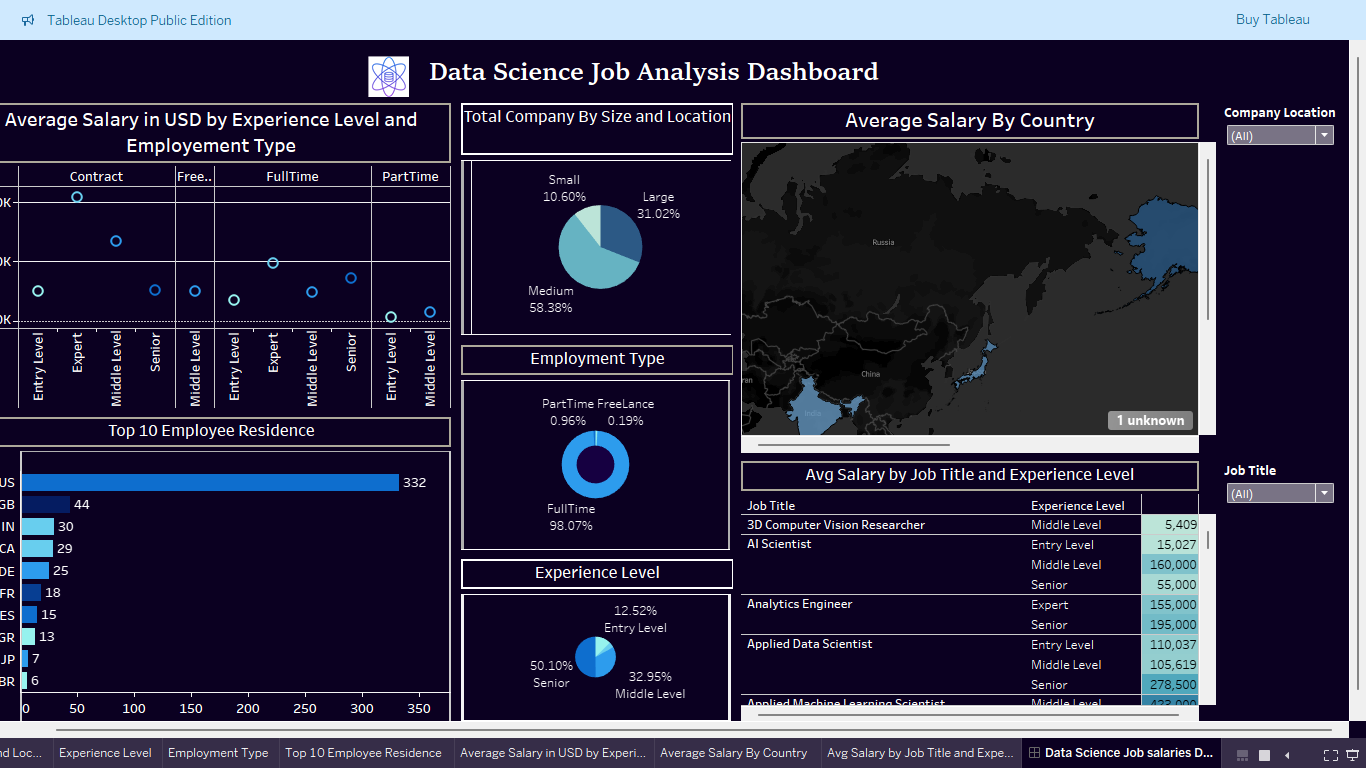

This screenshot's page, from the dashboard's own definition file:
{"tool":"tableau","page":{"name":"Data Science Job salaries Dashboard ","canvas":[1800,695],"ordinal":0},"visuals":[{"type":"text","box":[8,8,1328.2,56]},{"type":"filter","title":"Top 10 Employee Residence","param":"[federated.17arlav1dcehuu1ep6sw40hrnvht].[none:job_title:nk]","box":[1336.2,8,220.9,56]},{"type":"filter","title":"Avg Salary by Job Title and Experience Level","param":"[federated.17arlav1dcehuu1ep6sw40hrnvht].[none:company_location:nk]","box":[1557.1,8,234.9,53]},{"type":"image","param":"C:/Users/tehme/OneDrive/Desktop/download.png","box":[256.2,9,103.8,48]},{"type":"worksheet","title":"Average Salary in USD by Experience Level and Employement Type","mark":"Shape","rows":["salary_in_usd"],"cols":["employment_type","experience_level"],"box":[8,64,634.1,311.5]},{"type":"worksheet","title":"Total Company By Size and Location","mark":"Pie","rows":["Calculation_775745063016558593","Calculation_775745063016558593"],"box":[642.1,64,506.5,239.9]},{"type":"worksheet","title":"Average Salary By Country","mark":"Multipolygon","box":[1148.6,64,643.4,311.5]},{"type":"worksheet","title":"Employment Type","mark":"Pie","rows":["Calculation_775745063016558593","Calculation_775745063016558593"],"box":[642.1,303.9,506.5,212.8]},{"type":"worksheet","title":"Top 10 Employee Residence","mark":"Automatic","rows":["employee_residence"],"cols":["employee_residence"],"box":[8,375.5,634.1,311.5]},{"type":"worksheet","title":"Avg Salary by Job Title and Experience Level","mark":"Square","rows":["job_title","experience_level"],"box":[1148.6,375.5,643.4,311.5]},{"type":"worksheet","title":"Experience Level","mark":"Pie","rows":["Calculation_775745063016558593","Calculation_775745063016558593"],"box":[642.1,516.7,506.5,170.3]}]}

Visuals, with their boxes on the page's 1800x695 design canvas (x1, y1, x2, y2). These are canvas units, not pixel positions in the 1366x768 screenshot, which may show the page scaled, cropped or inside an application window:
text: 8,8,1336,64
"Top 10 Employee Residence" filter: 1336,8,1557,64
"Avg Salary by Job Title and Experience Level" filter: 1557,8,1792,61
image: 256,9,360,57
"Average Salary in USD by Experience Level and Employement Type" worksheet (Shape marks): 8,64,642,376
"Total Company By Size and Location" worksheet (Pie marks): 642,64,1149,304
"Average Salary By Country" worksheet (Multipolygon marks): 1149,64,1792,376
"Employment Type" worksheet (Pie marks): 642,304,1149,517
"Top 10 Employee Residence" worksheet: 8,376,642,687
"Avg Salary by Job Title and Experience Level" worksheet (Square marks): 1149,376,1792,687
"Experience Level" worksheet (Pie marks): 642,517,1149,687
